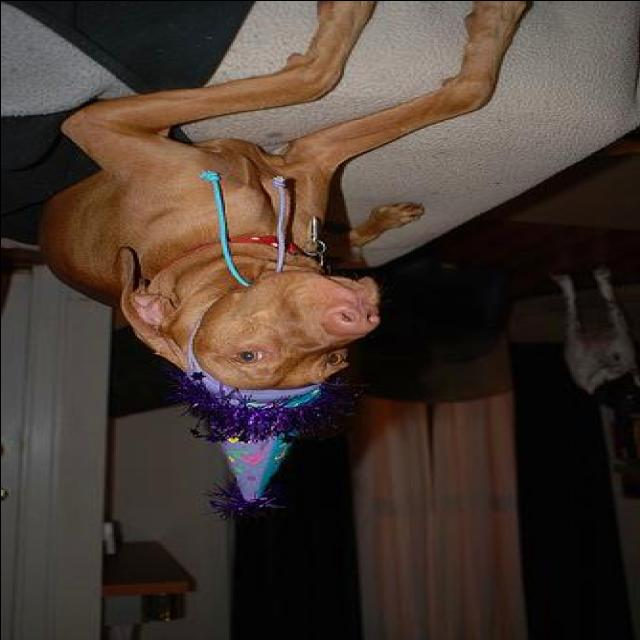vizsla: (34, 2, 529, 390)
